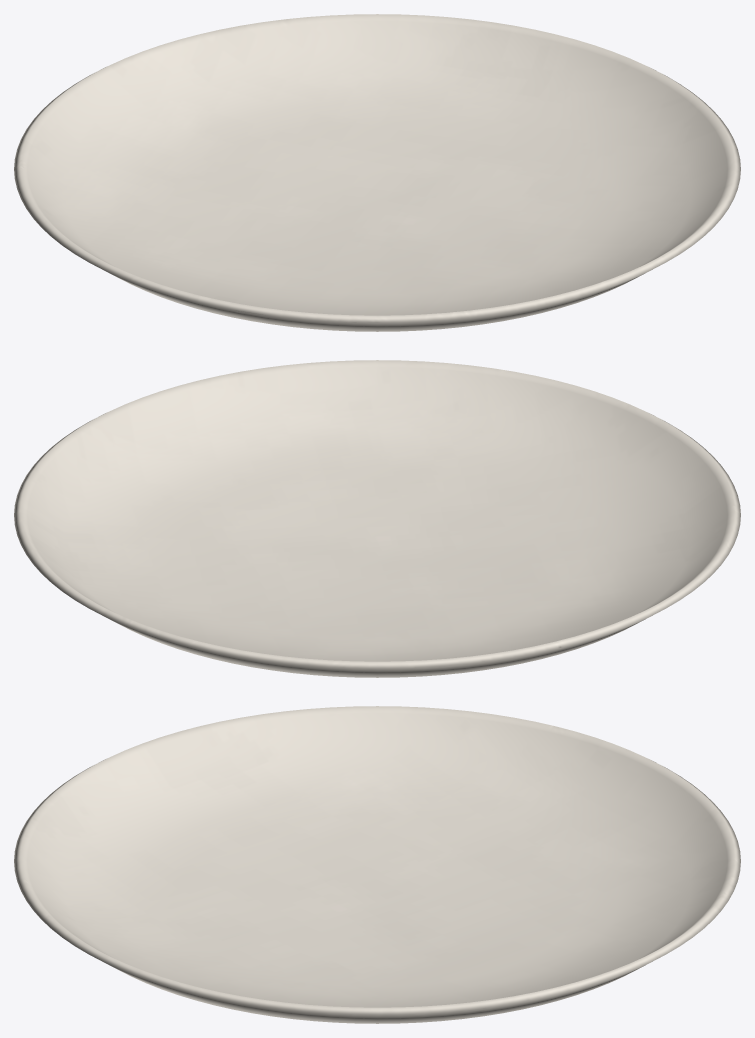
Rendered from dinner-white.glb.
The picture shows the model from 3 angles, top to bottom: view 1: azimuth 30°, elevation 25°; view 2: azimuth 150°, elevation 25°; view 3: azimuth 270°, elevation 25°; orthographic projection.
Parts seen in each view (by area): view 1: ceramic_primary; view 2: ceramic_primary; view 3: ceramic_primary.
Boxes of the visible parts, bbox=[...] form: ceramic_primary: bbox=[14, 14, 740, 331]; ceramic_primary: bbox=[14, 360, 740, 677]; ceramic_primary: bbox=[14, 706, 740, 1023].
Size of the model in its own units: 0.27 by 0.0237 by 0.27.
1 material, 1 textured.
